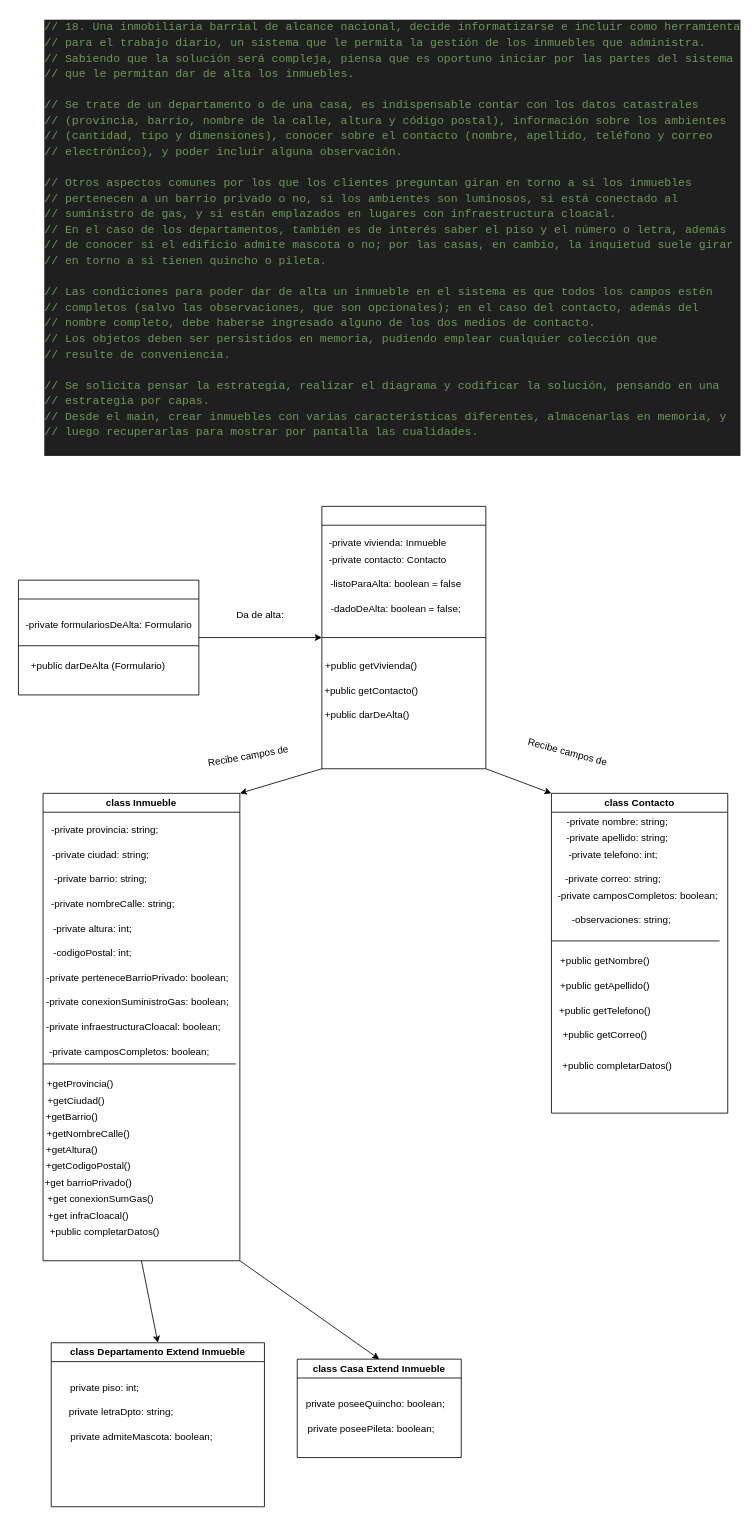
Image size: 754x1521. Some labels were removed from this diagram. Here are the shapes that lost their labels. From the top down, the box of each, then its label:
(18, 579, 199, 695): class ListaFormularios
(321, 506, 486, 769): class Formulario
